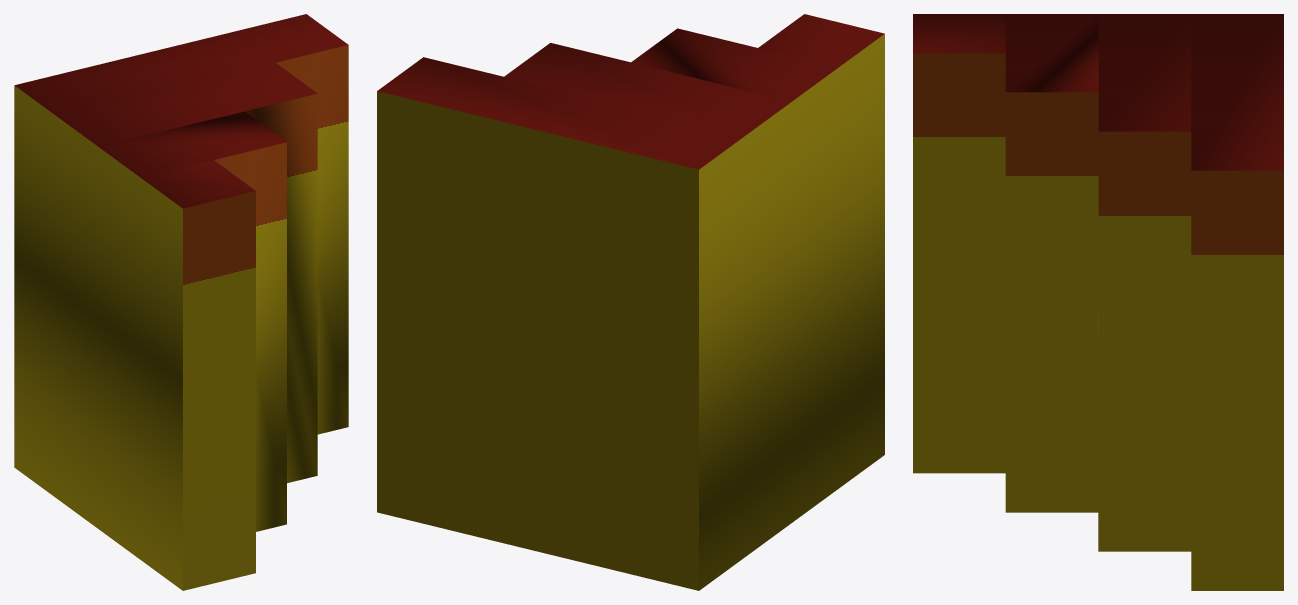
File: block_16.fbx
3 views of the same model, side by side, from view 1: azimuth 30°, elevation 25°; view 2: azimuth 150°, elevation 25°; view 3: azimuth 270°, elevation 25° (orthographic). The views are drawn at different scales.
Visible parts, largest first — view 1: Box.006; view 2: Box.006; view 3: Box.006.
Boxes of the visible parts, box(x1,y1,x2,y2) form: Box.006: box(14, 14, 348, 590); Box.006: box(377, 14, 884, 590); Box.006: box(913, 14, 1283, 590).
Size of the model in its own units: 400 by 500 by 400.
